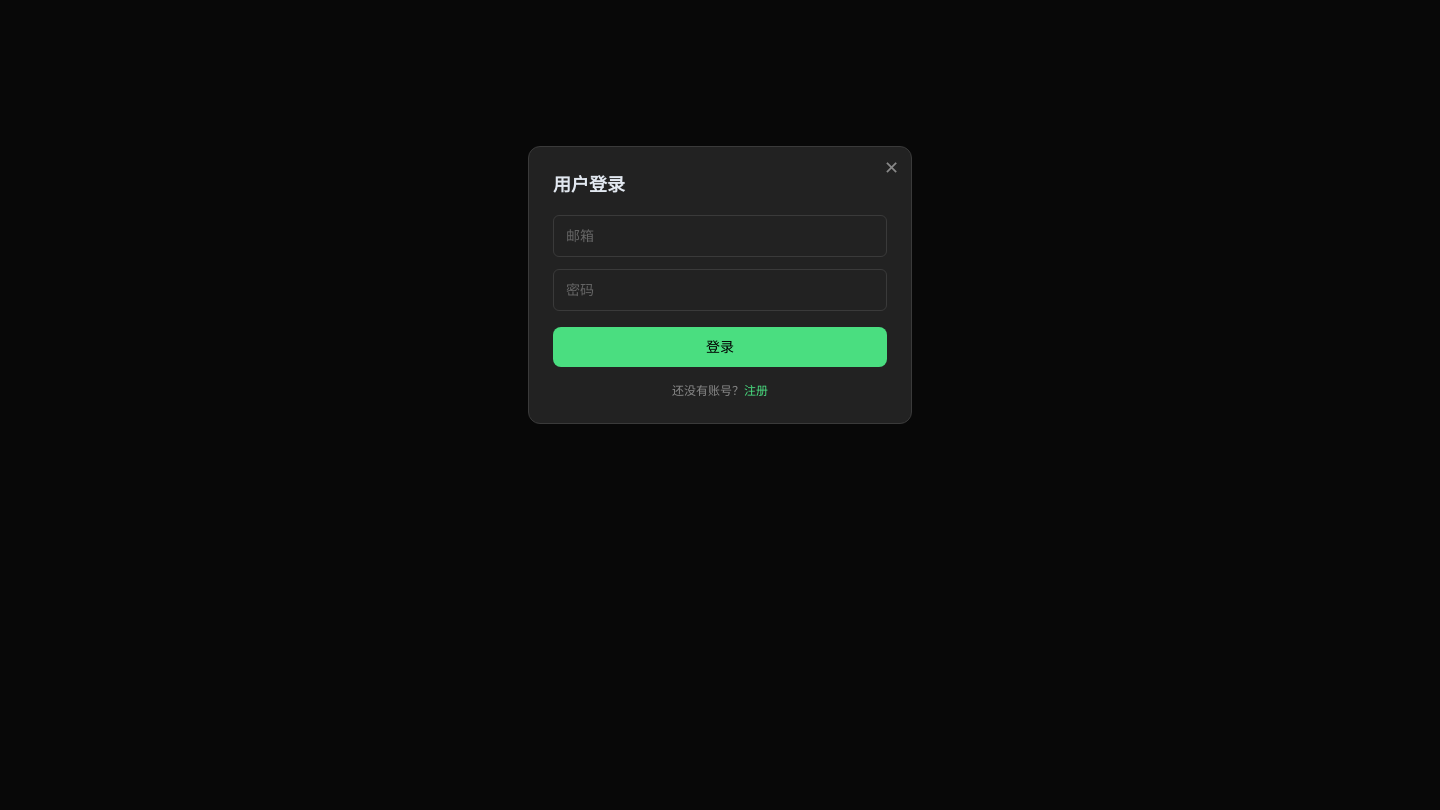
Scenario: AuthModal › should switch back to login form when clicking bottom login link
Step 1. Click the button "注册" → (756, 391), box [744,383,768,399]
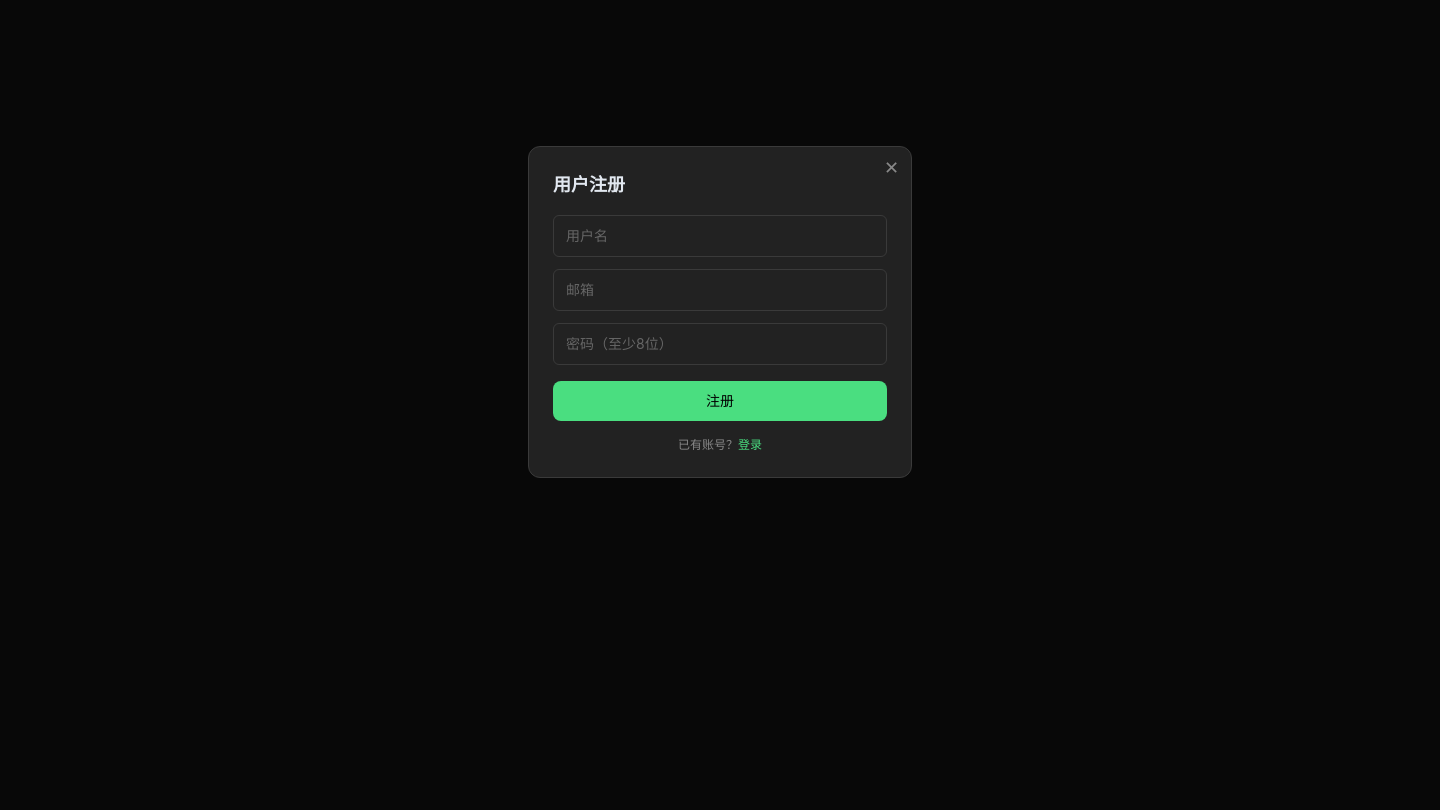
Step 2. Click the button "登录" → (750, 445), box [738,437,762,453]
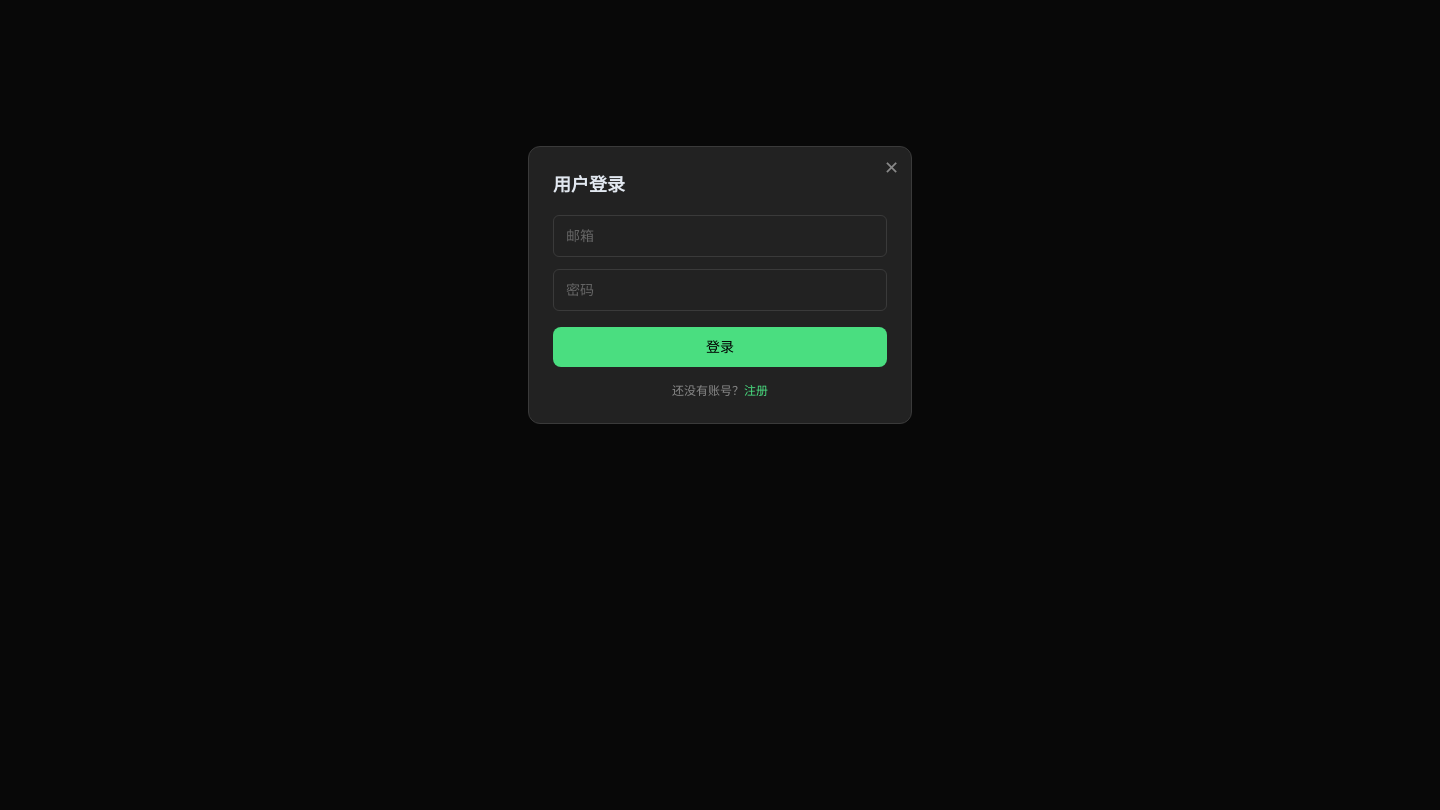
expect the field with placeholder "用户名" is not shown: met
expect the heading "用户登录" is shown: met, box [553,174,625,195]
